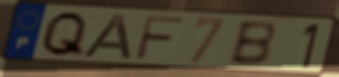1: (301, 22, 321, 69)
7: (187, 15, 230, 66)
A: (79, 13, 135, 61)
B: (226, 20, 278, 68)
F: (132, 14, 187, 62)
Q: (38, 10, 91, 59)
